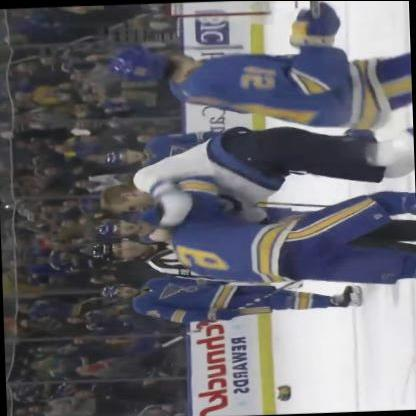non-Voilence: (109, 21, 401, 133), (99, 270, 354, 324)
voilence: (100, 126, 347, 288)
